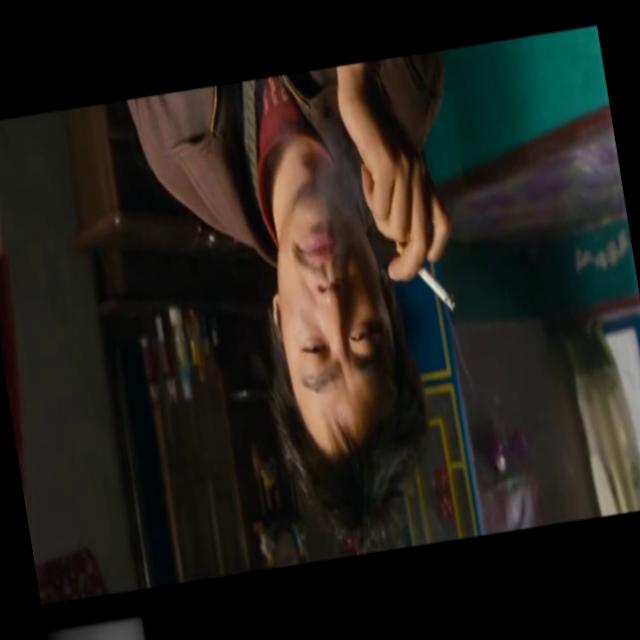smoke: (416, 262, 459, 316)
